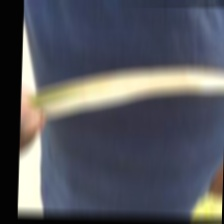Leaf_Blast: (54, 67, 224, 93)
